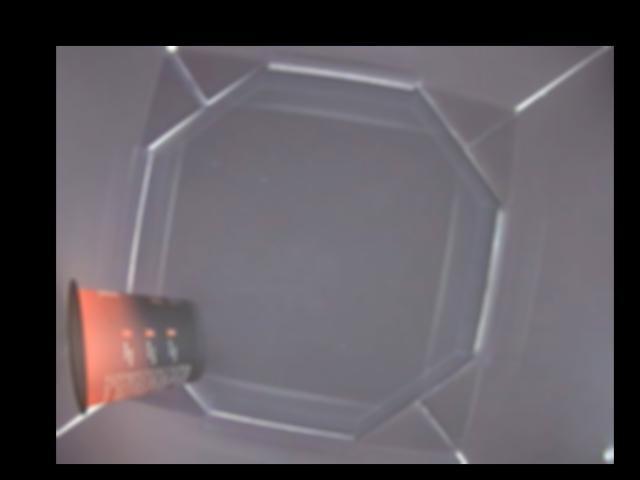Cup: (66, 279, 203, 417)
